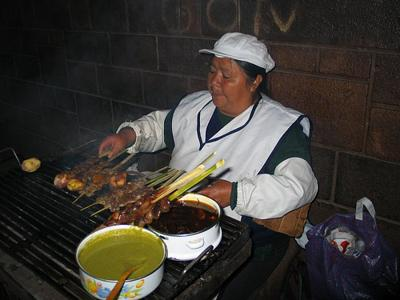person: (98, 31, 318, 300)
